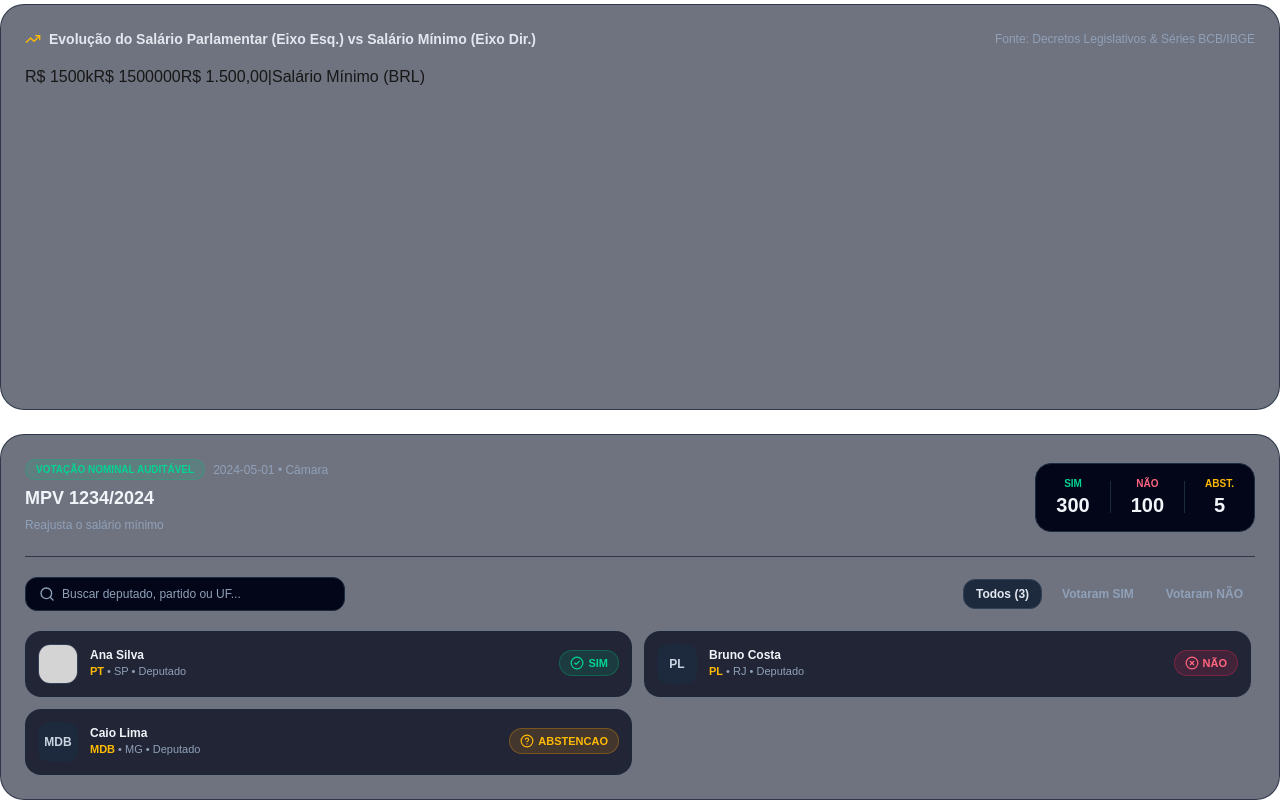
Test: WageDisparityPanel › filtra a votação por texto e por voto
(page scrolled)
Expected: the heading "Ana Silva" is shown, [90,648,144,662]
Expected: the button "Todos (3)" is shown, [963,578,1042,608]
Click the button "Votaram SIM" at (1098, 594), box [1050,580,1146,608]
(page scrolled)
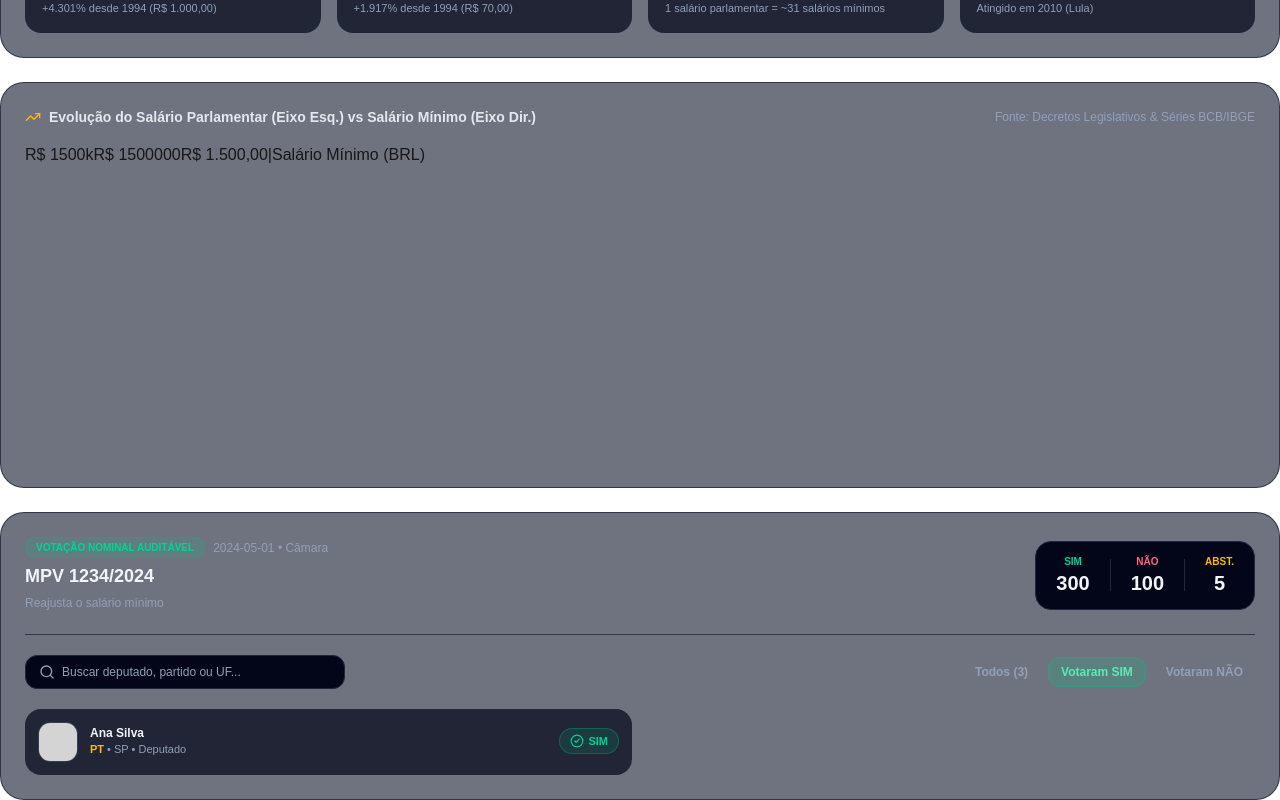
Expected: the heading "Ana Silva" is shown, [90,726,144,740]
Result: the heading "Bruno Costa" is gone
Click the button "Votaram NÃO" at (1204, 672), box [1154,658,1255,686]
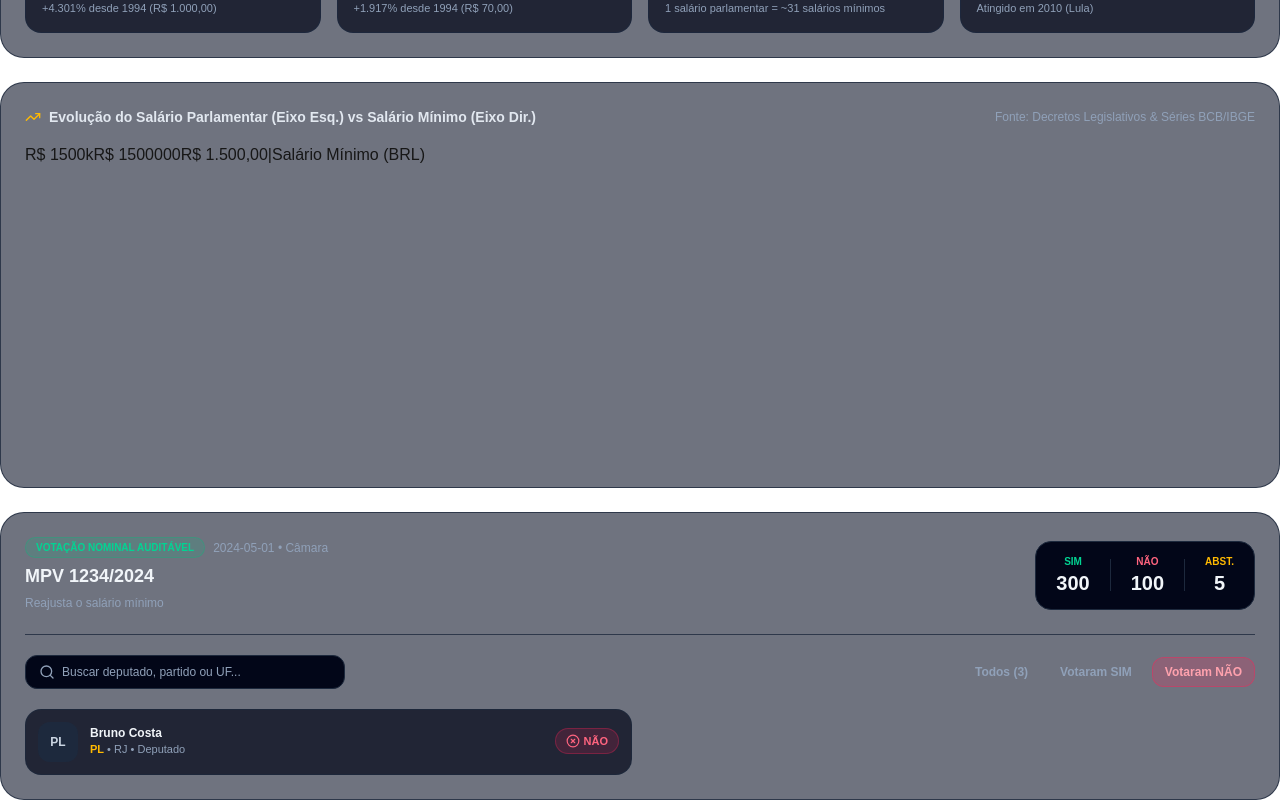
Result: the heading "Bruno Costa" is shown at [90,726,162,740]
Click the button "Todos (3)" at (1001, 672), box [963,658,1040,686]
(page scrolled)
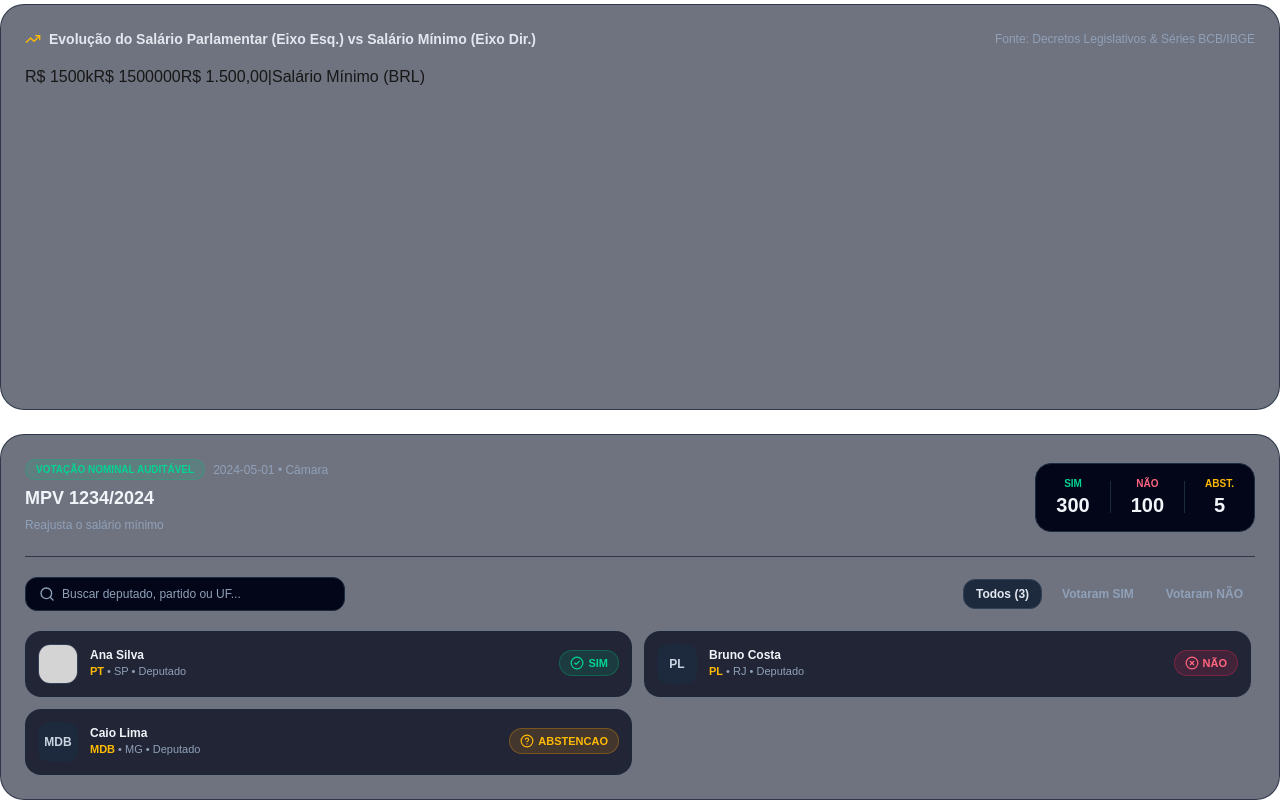
Type "mdb" into the field labelled "Buscar deputado, partido ou UF..." at (185, 594), box [25,576,345,610]
(page scrolled)
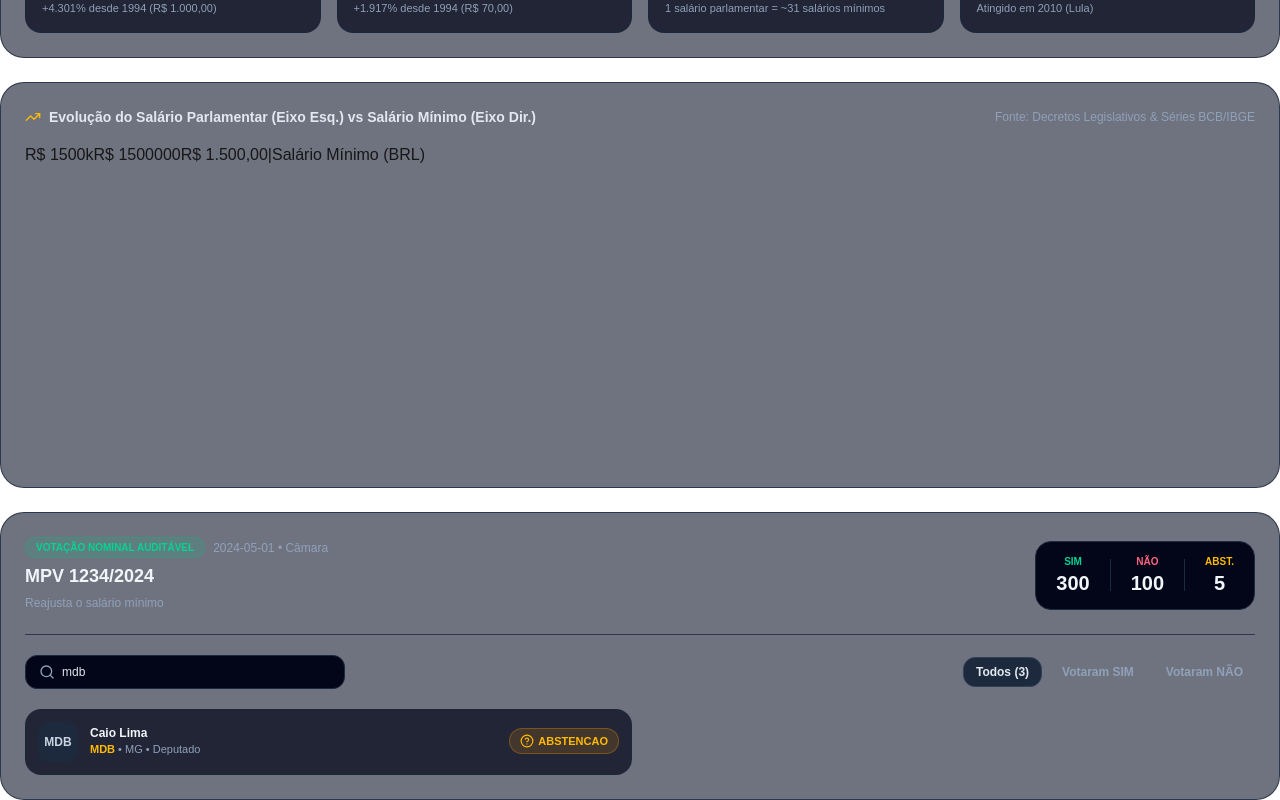
Result: the heading "Caio Lima" is shown at [90,726,147,740]
Result: the text "ABSTENCAO" is shown at [509,728,619,754]
Result: the heading "Ana Silva" is gone
